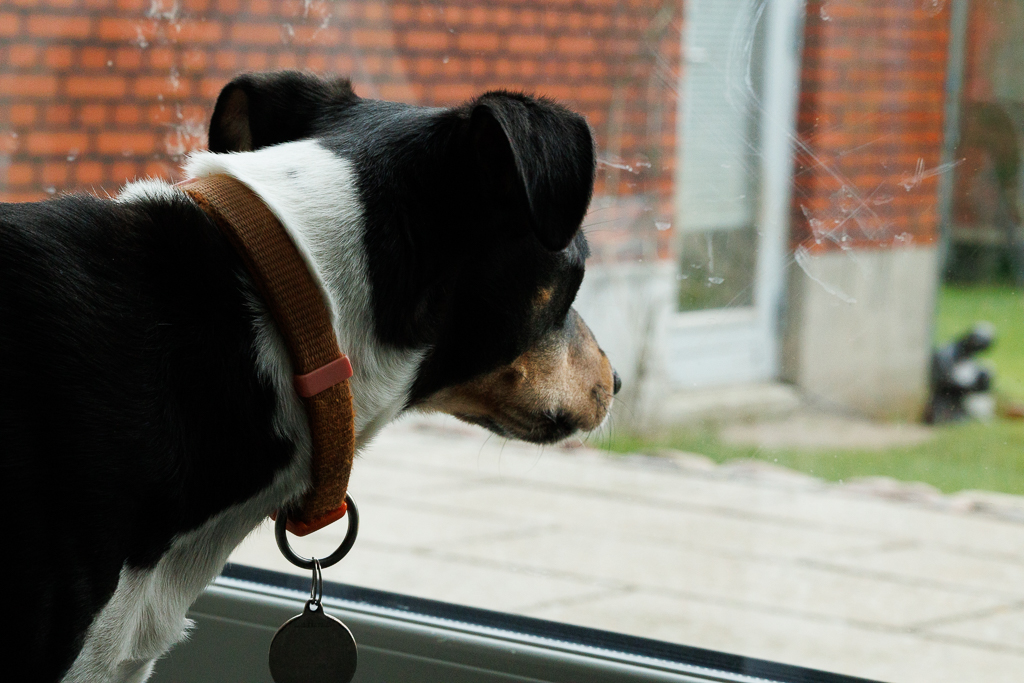Dog: (0, 56, 632, 683)
Humanoid: (905, 304, 1011, 444)
